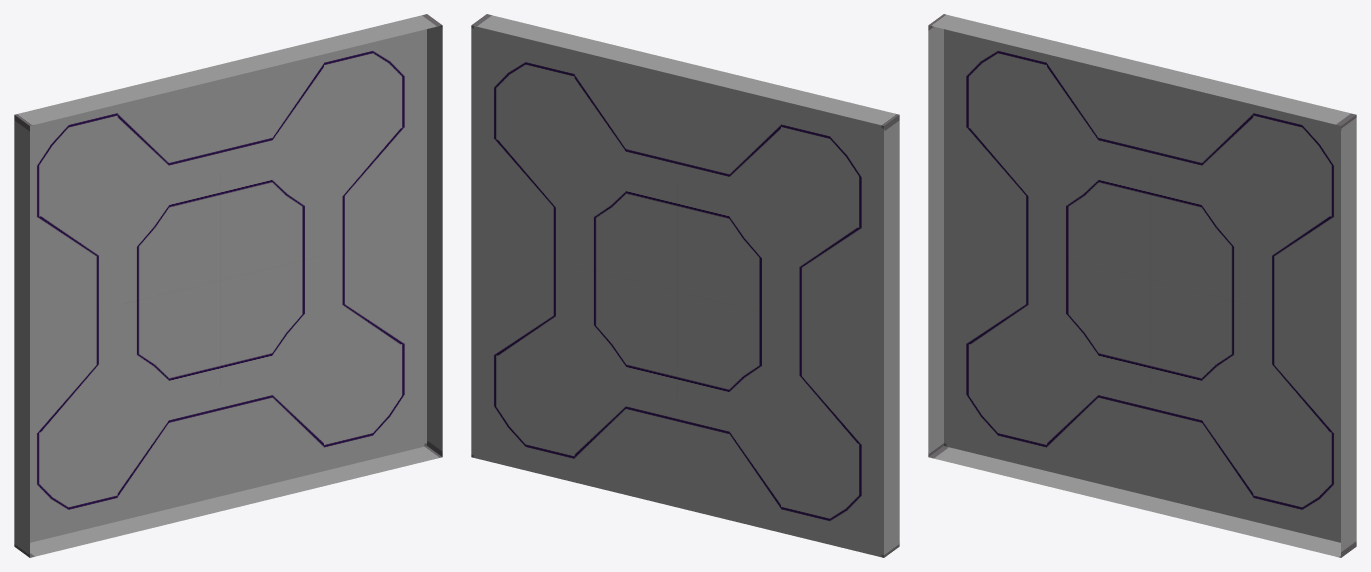
The model's file is KF_SM_BigPlane4.fbx.
The picture shows the model from 3 angles, left to right: view 1: azimuth 30°, elevation 25°; view 2: azimuth 150°, elevation 25°; view 3: azimuth 330°, elevation 25°; orthographic projection.
Visible parts, largest first — view 1: KF_SM_BigPlane4; view 2: KF_SM_BigPlane4; view 3: KF_SM_BigPlane4.
Part boxes in pixels (<box>): KF_SM_BigPlane4: <box>14,14,442,557</box>; KF_SM_BigPlane4: <box>471,14,899,557</box>; KF_SM_BigPlane4: <box>928,14,1356,557</box>.
Bounding box in the file's own units: 5000 × 324 × 5000.
